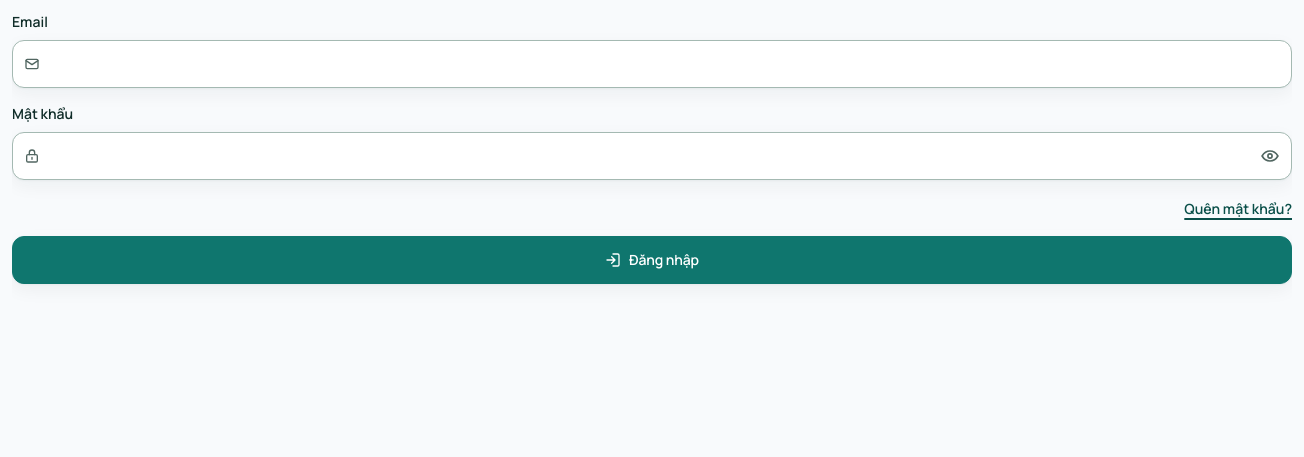
Test: LoginForm › enforces the optional admin entry role after login without changing the shared default
The image size is (1304, 457).
Type "tenant@example.com" into the field named "Email (bắt buộc)". click: coordinates (652, 64)
box: [12,40,1292,88]
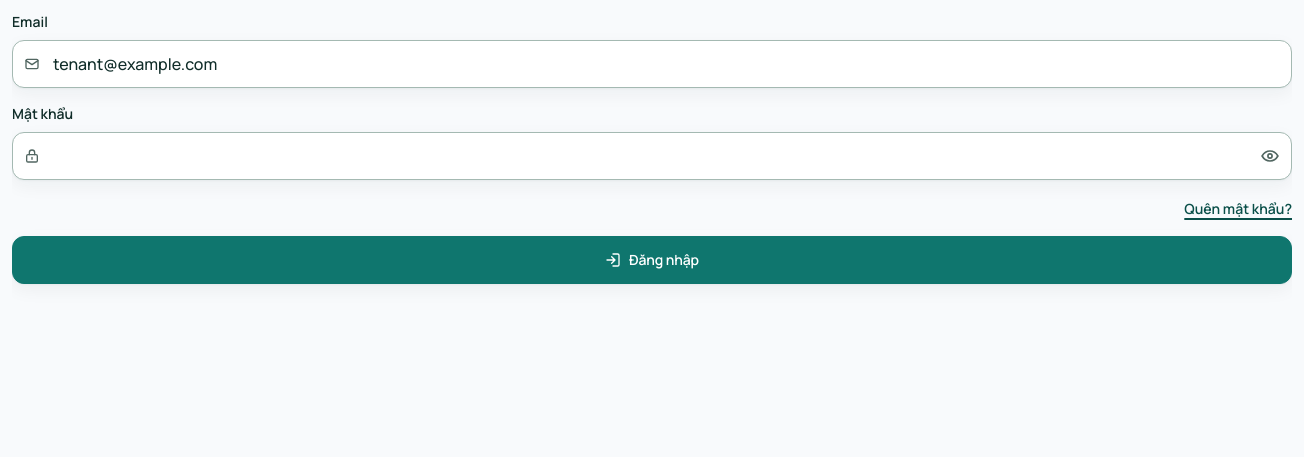
Type "password" into the password field named "Mật khẩu (bắt buộc)". click: coordinates (652, 156)
box: [12,132,1292,180]
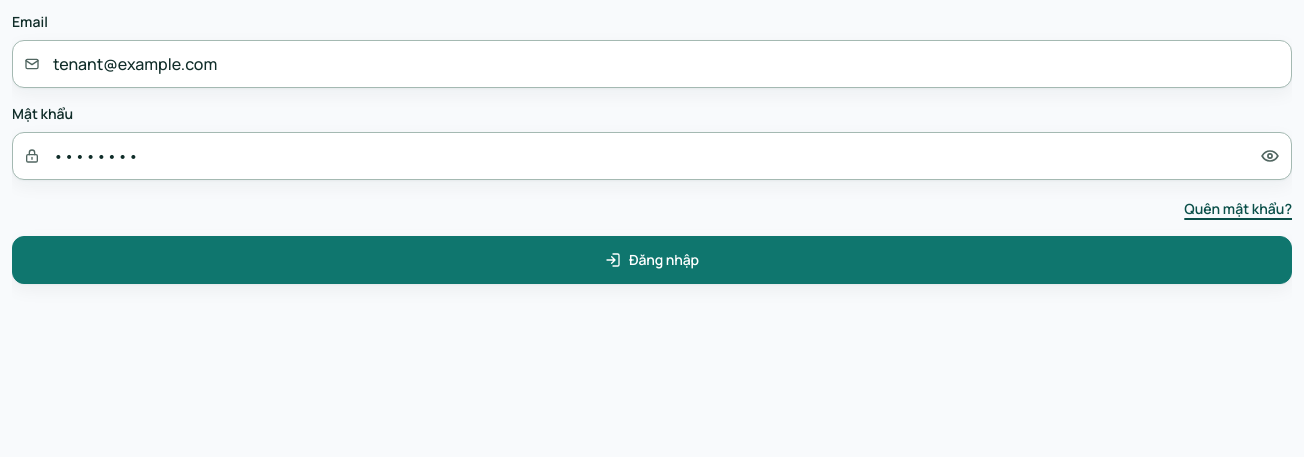
Click the button "Đăng nhập". click: coordinates (652, 260)
box: [12,236,1292,284]
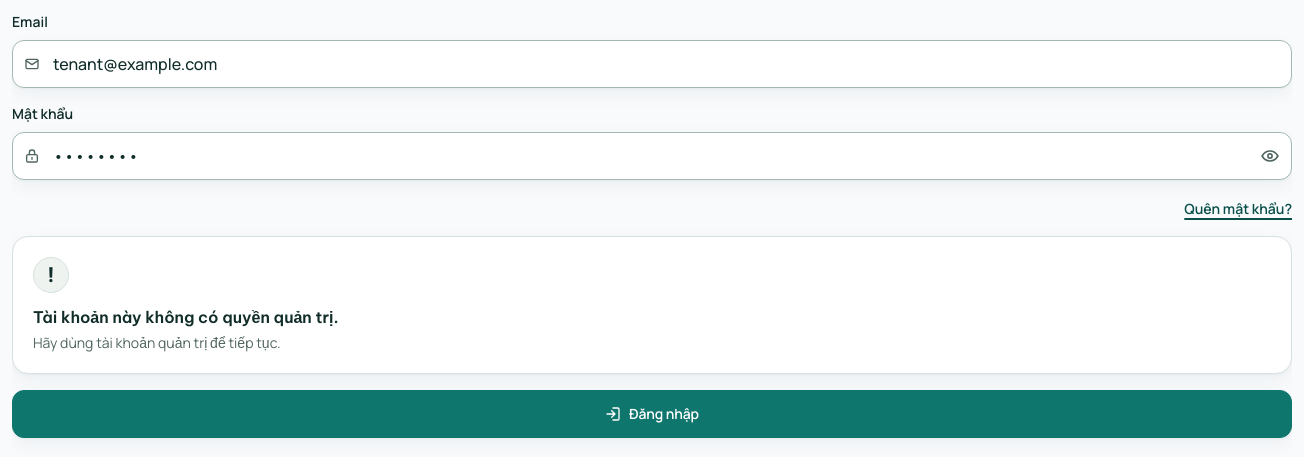
Now the message shows "không có quyền quản trị", box [33,307,339,327]
